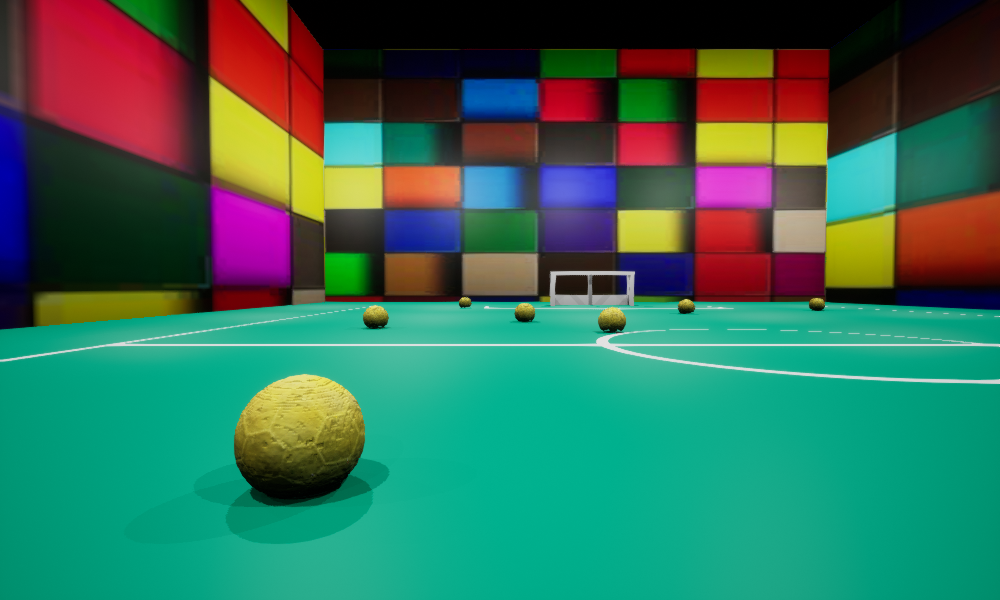b: (234, 374, 364, 498), (598, 307, 625, 331), (363, 305, 388, 327), (514, 303, 534, 321), (678, 299, 694, 313), (809, 298, 824, 309), (459, 297, 471, 307)
g: (550, 271, 634, 305)
